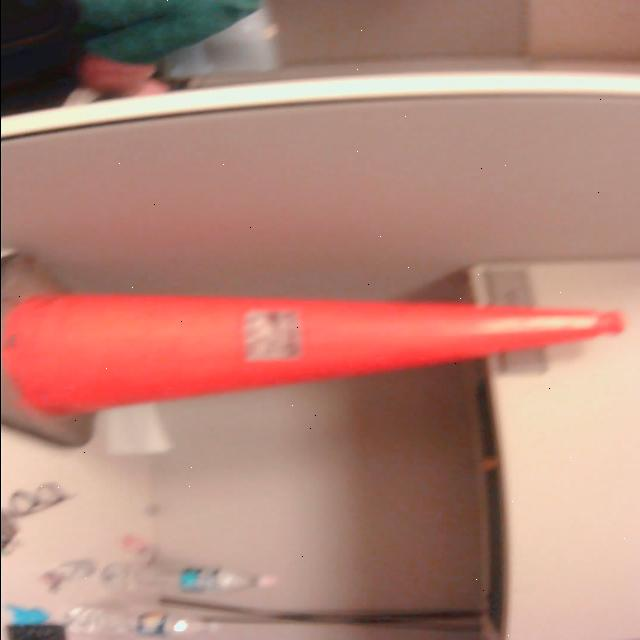traffic cone: (2, 248, 630, 453)
